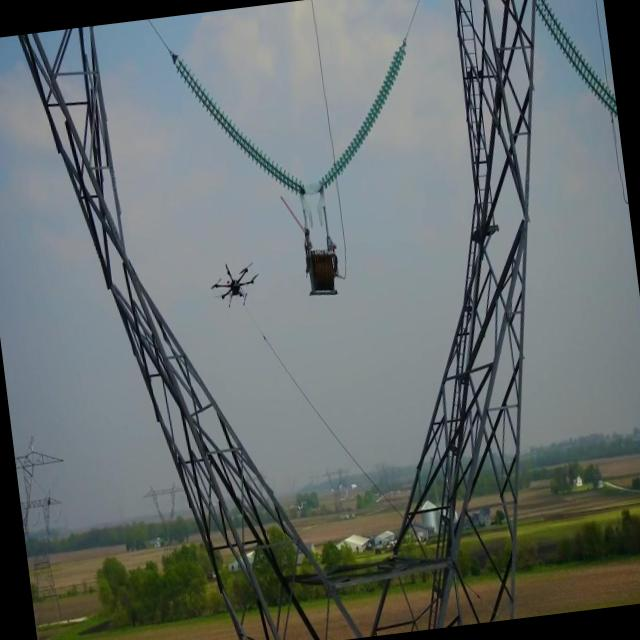drone: (204, 255, 264, 312)
